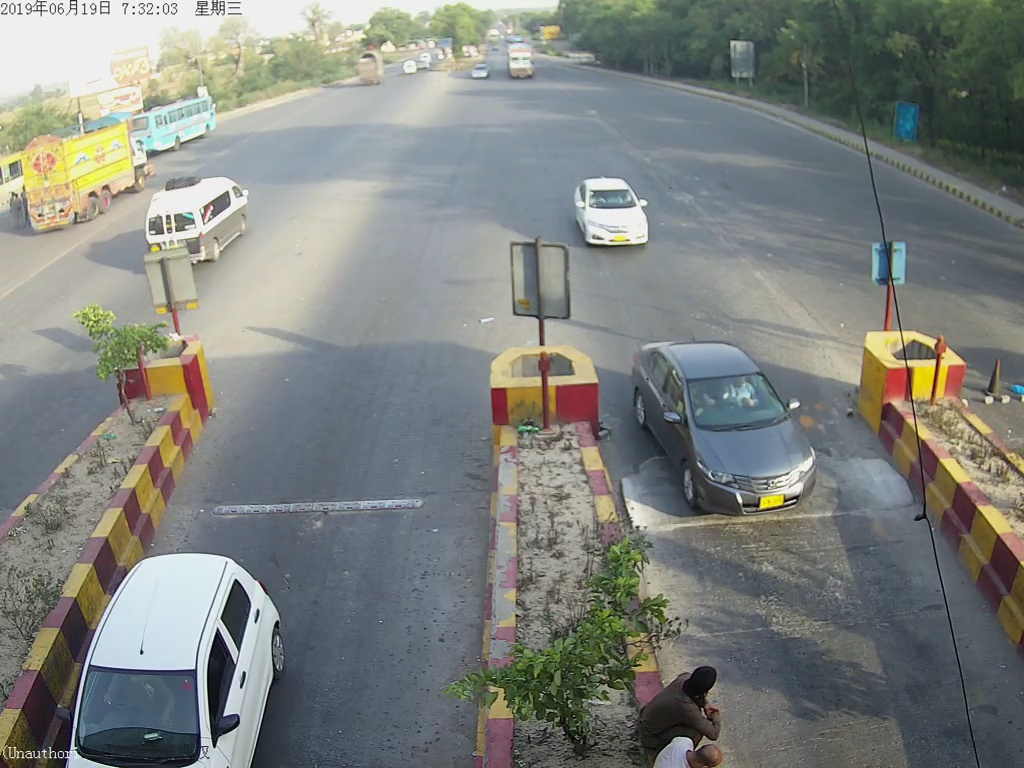Cat-1: (634, 329, 841, 522), (570, 176, 654, 246)
